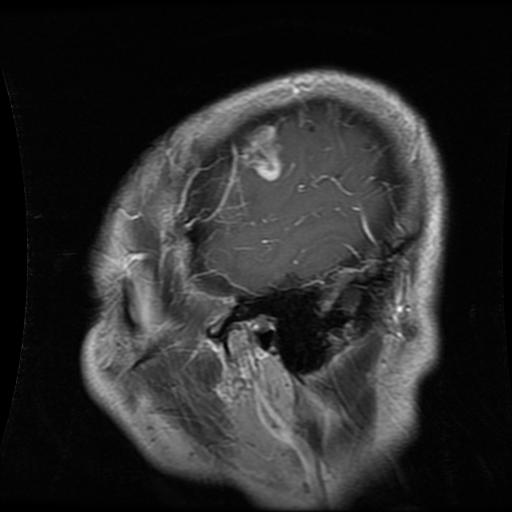Gliomia_tumour: (234, 123, 280, 179)
